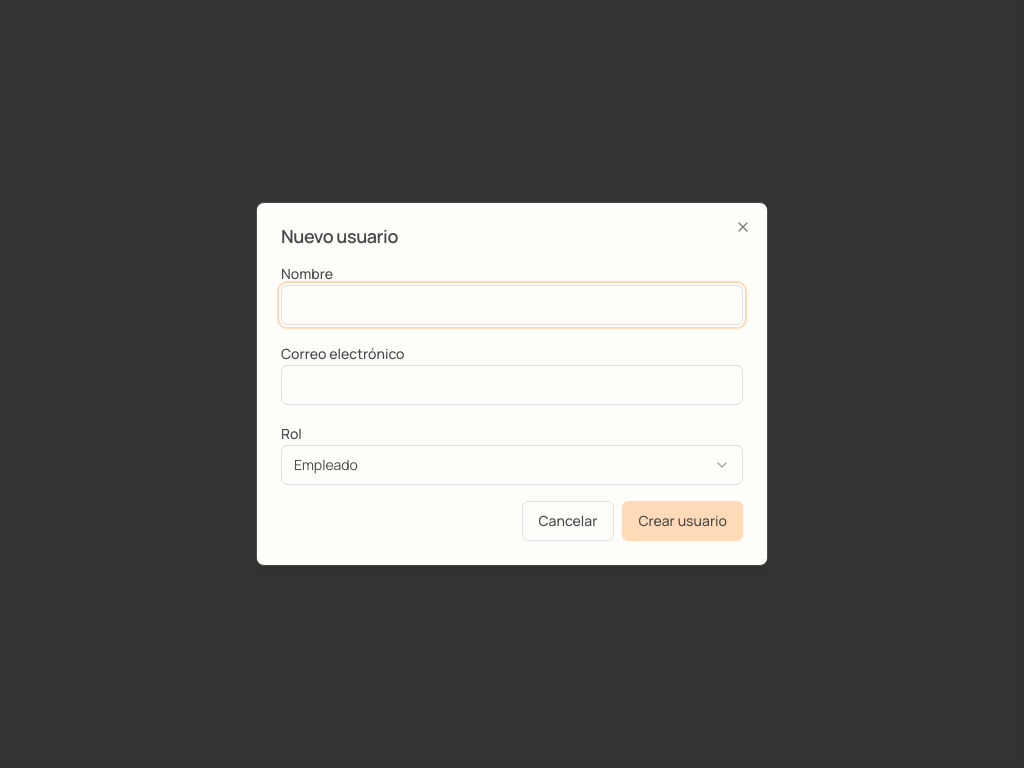
Test: UserFormDialog: modo crear › muestra mensaje de confirmación con el email tras crear el usuario
The width and height of the screenshot is (1024, 768).
Type "Nuevo Usuario" into the field labelled "Nombre".
click(512, 305); type("Nuevo Usuario")  # box top-left (281, 285), bottom-right (743, 325)
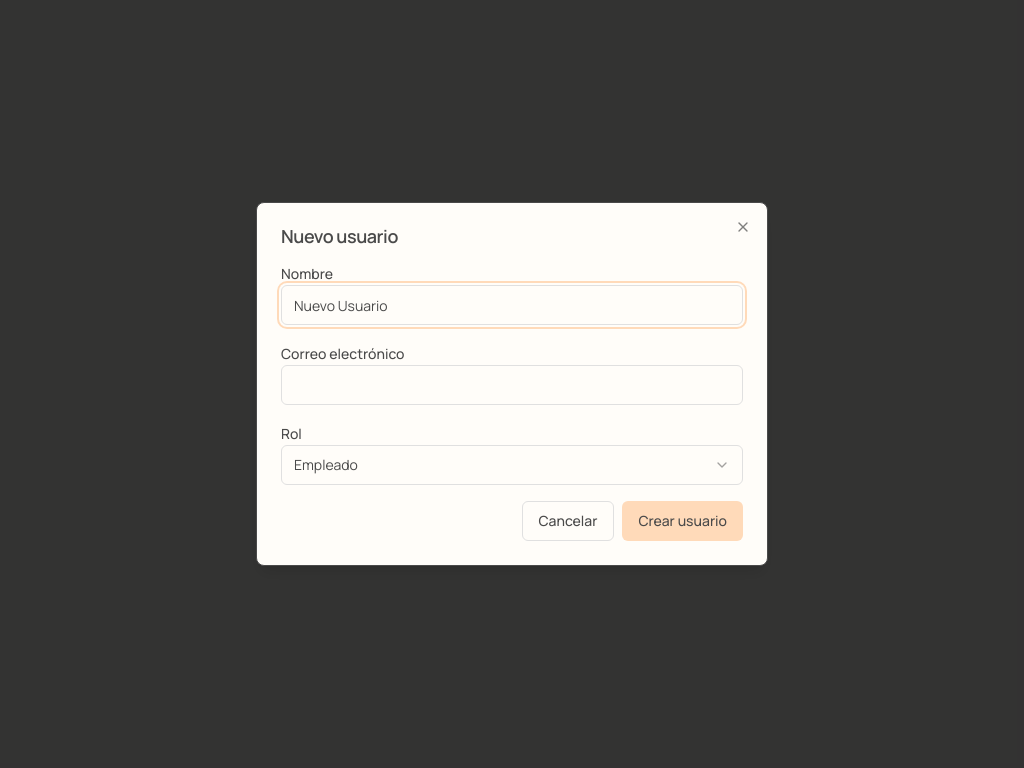
Type "nuevo@example.com" into the field labelled "Correo electrónico".
click(512, 385); type("nuevo@example.com")  # box top-left (281, 365), bottom-right (743, 405)
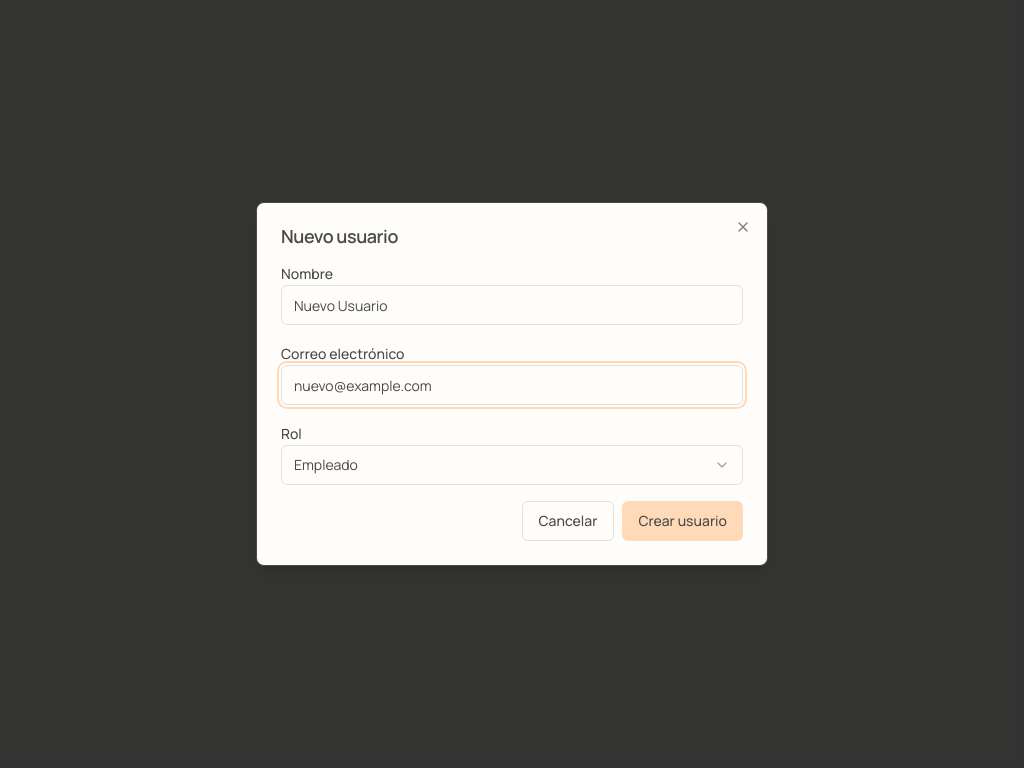
Click the button "Crear usuario".
click(683, 521)  # box top-left (622, 501), bottom-right (743, 541)
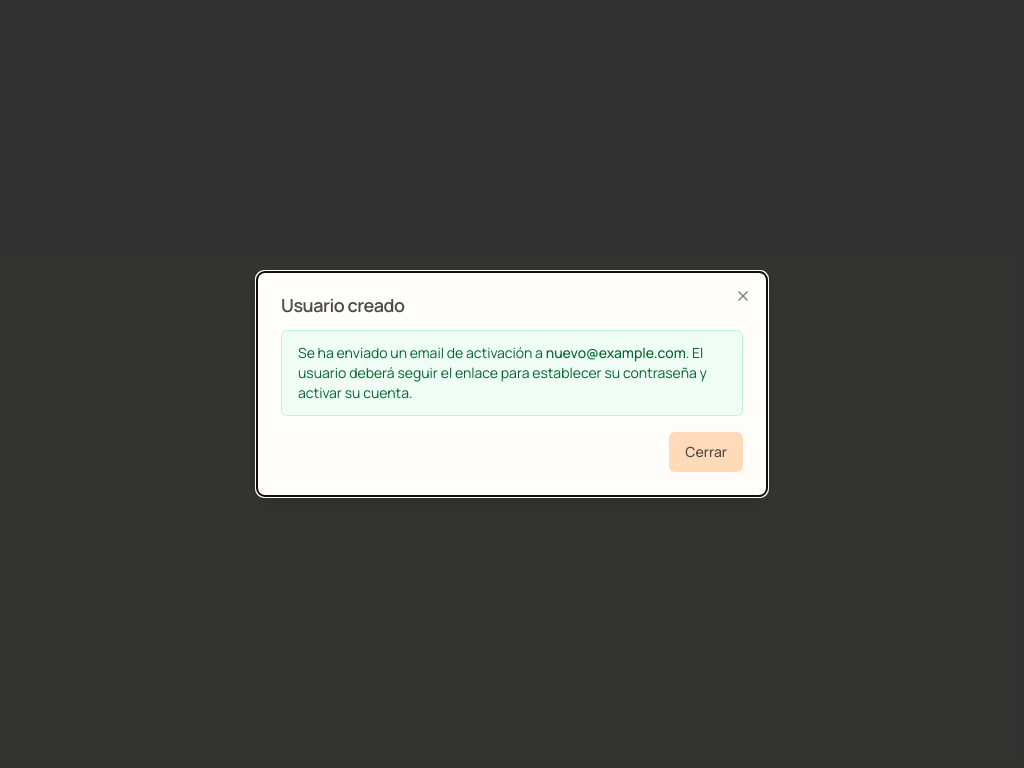
Expected: the text "Se ha enviado un email de activación a" is shown, top-left (298, 343), bottom-right (543, 362)
Expected: the text "nuevo@example.com" is shown, top-left (546, 343), bottom-right (686, 362)
Expected: the button "Cerrar" is shown, top-left (669, 432), bottom-right (743, 472)
